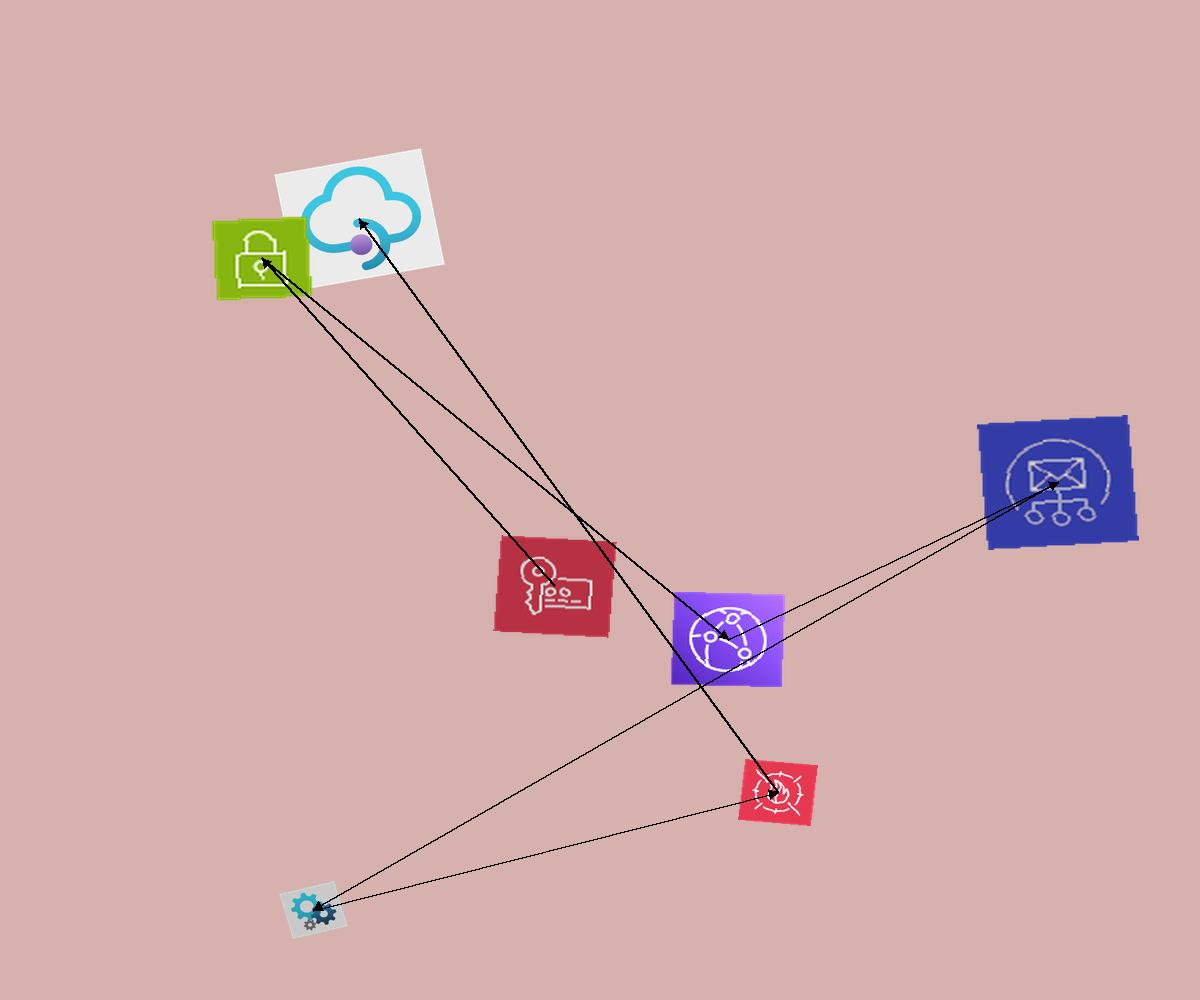AWS-CloudFront: (670, 591, 786, 688)
AWS-Key-Management-Service: (493, 535, 617, 638)
AWS-Public-subnet: (210, 215, 314, 302)
AWS-Simple-Email-Service: (977, 415, 1139, 550)
AWS-WAF: (738, 759, 818, 826)
Azure_api: (279, 881, 348, 939)
Azure_api_gateway: (274, 148, 445, 291)
